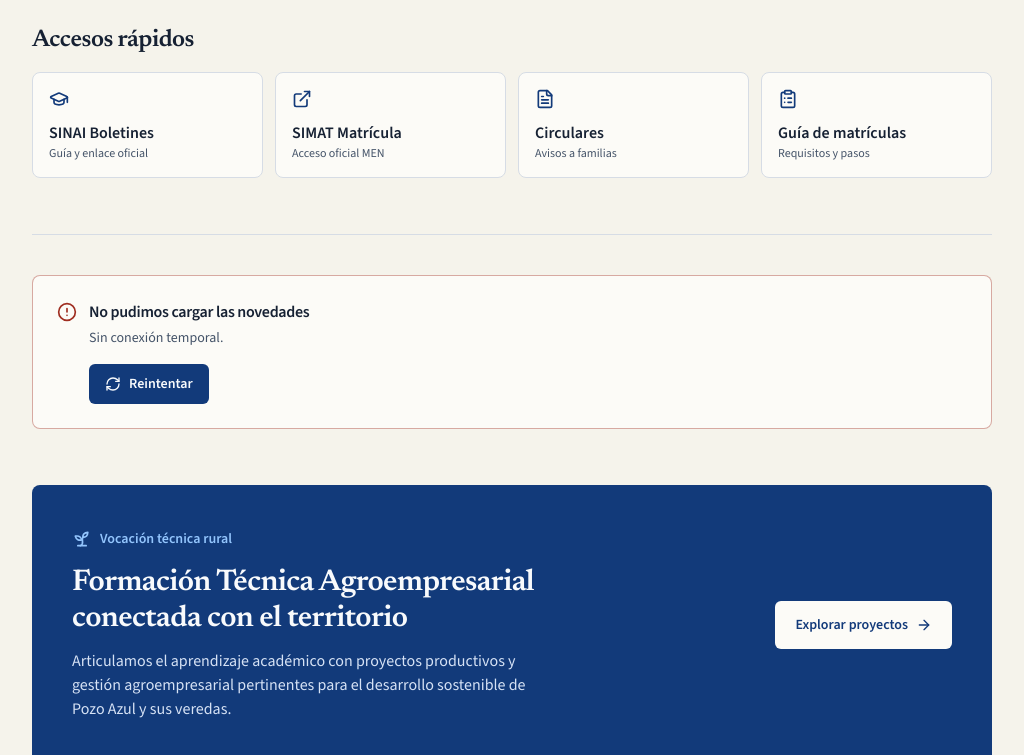
Test: HomePage (Fase 3) › muestra estado de error y permite reintentar cuando falla la petición HTTP
The image size is (1024, 755).
(page scrolled)
expect the message shows "Sin conexión temporal.": met, box [89, 328, 223, 347]
Click the button "Reintentar" at (149,384), box [89, 364, 209, 404]
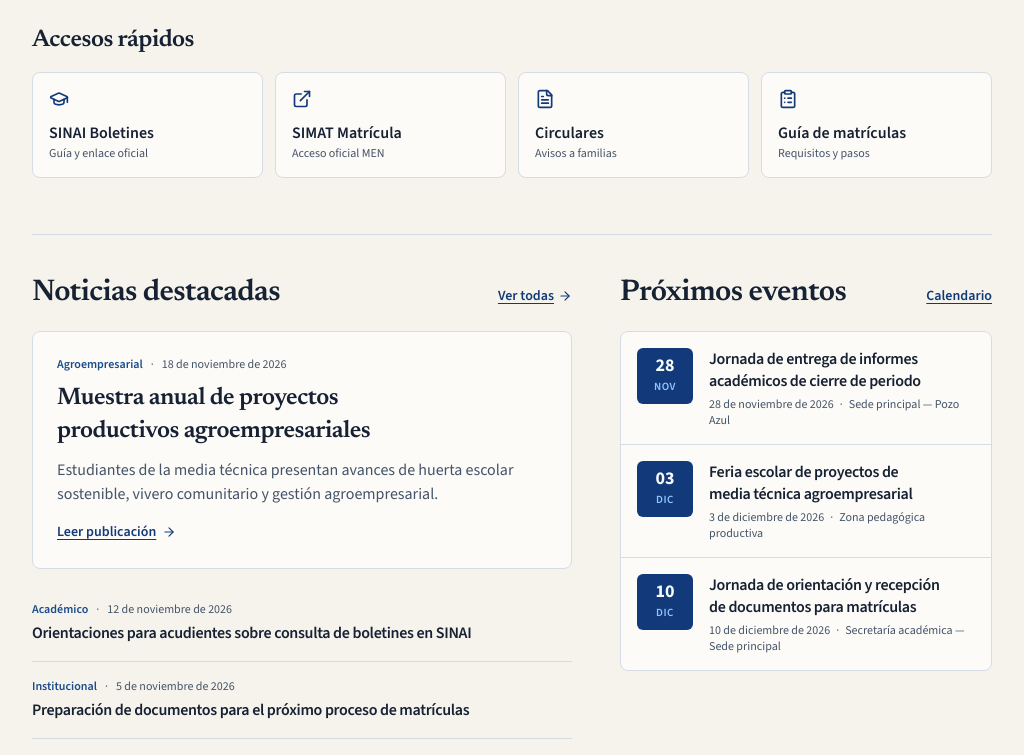
expect the link "Muestra anual de proyectos productivos agroempresariales" is shown: met, box [57, 386, 370, 443]
